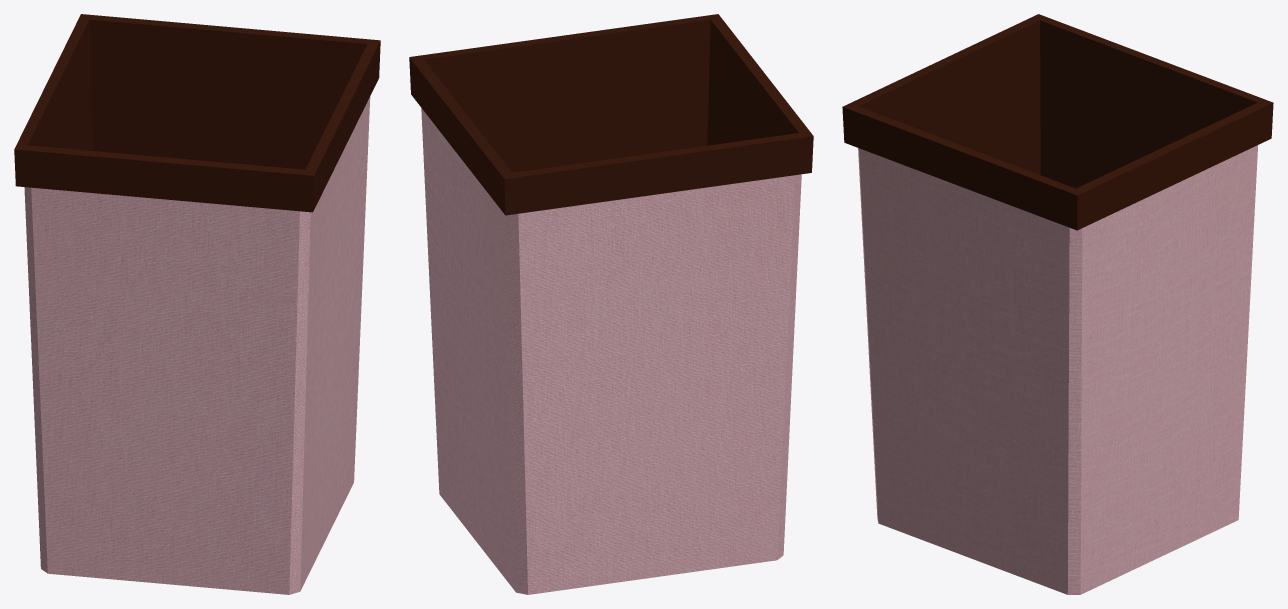
File: TrashCan.fbx
3 renders of one model, left to right at view 1: azimuth 30°, elevation 25°; view 2: azimuth 150°, elevation 25°; view 3: azimuth 270°, elevation 25°, orthographic. The views are drawn at different scales.
Visible parts, largest first — view 1: Cube; view 2: Cube; view 3: Cube.
Part boxes in pixels (x1,y1,x2,y2): Cube: (14, 14, 380, 594); Cube: (409, 14, 813, 594); Cube: (842, 14, 1273, 594).
Size of the model in its own units: 237 by 253 by 238.
2 materials, 1 textured.
